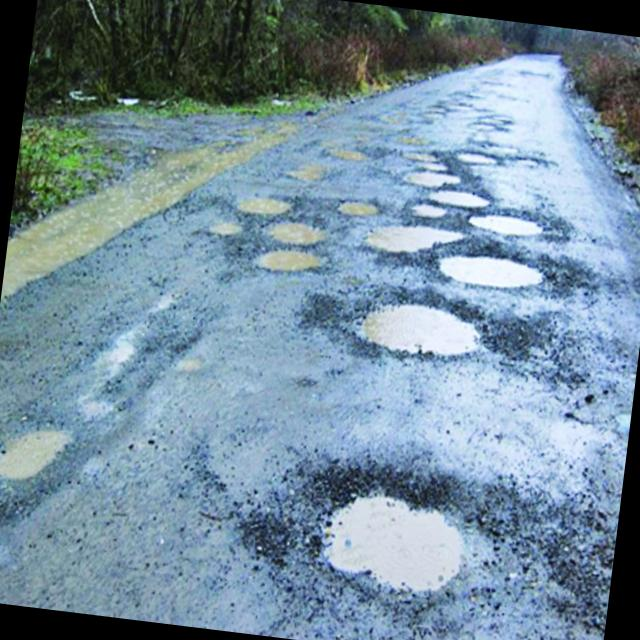Potholes: (288, 464, 498, 626), (347, 283, 510, 382), (432, 244, 550, 306), (364, 210, 474, 274), (250, 238, 339, 288), (468, 202, 556, 250), (458, 144, 560, 184), (397, 158, 489, 196), (233, 181, 296, 227), (260, 212, 332, 250), (316, 140, 384, 177), (290, 156, 340, 197), (203, 208, 246, 250), (426, 190, 480, 218)
